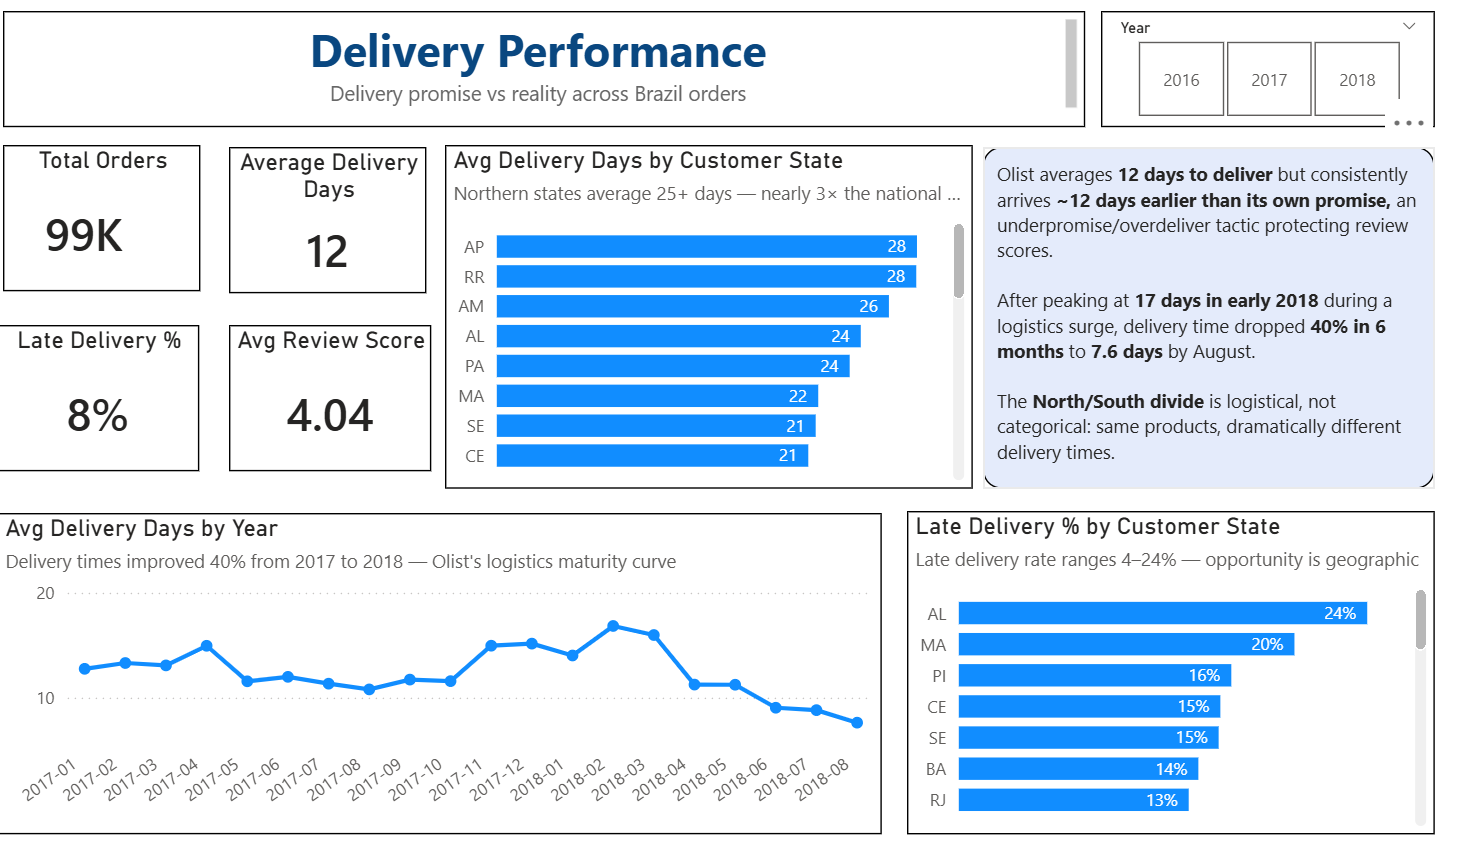

What the dashboard file says about the page in this screenshot:
{"tool":"powerbi","page":{"name":"Delivery Performance","canvas":[1280,720],"ordinal":2},"visuals":[{"type":"cardVisual","fields":{"Data":["orders_enriched.Avg Delivery Days"]},"box":[842.1,402.6,162,144.4],"z":0},{"type":"cardVisual","title":"Late Delivery %","fields":{"Data":["orders_enriched.Late Delivery %"]},"box":[6.4,242.2,144.4,104.3],"z":1000},{"type":"cardVisual","title":"Total Orders","fields":{"Data":["orders_enriched.Total Orders"]},"box":[9.6,113.9,141.2,104.3],"z":2000},{"type":"clusteredBarChart","title":"Avg Delivery Days by Customer State","fields":{"Y":["orders_enriched.Avg Delivery Days"],"Category":["orders_enriched.customer_state"]},"box":[325.6,113.9,376.9,245.4],"z":3000},{"type":"clusteredBarChart","title":"Late Delivery % by Customer State","fields":{"Y":["orders_enriched.Late Delivery %"],"Category":["orders_enriched.customer_state"]},"box":[656,375.3,376.9,231],"z":4000},{"type":"slicer","fields":{"Values":["DateTable.Year"]},"box":[794.3,18.6,238.6,82.9],"z":5000},{"type":"textbox","box":[10,18.6,772.9,82.9],"z":6000},{"type":"lineChart","title":"Avg Delivery Days by Year","fields":{"Y":["orders_enriched.Avg Delivery Days"],"Category":["DateTable.Year-Month"]},"box":[6.4,376.9,632,229.4],"z":7000},{"type":"textbox","box":[1042,114,238,233],"z":8000},{"type":"textbox","box":[710.6,115.5,322.4,243.8],"z":9000},{"type":"cardVisual","title":"Average Delivery Days","fields":{"Data":["orders_enriched.Avg Delivery Days"]},"box":[171.6,115.5,141.2,104.3],"z":10000},{"type":"cardVisual","title":"Avg Review Score","fields":{"Data":["orders_enriched.Avg Review Score"]},"box":[171.6,242.2,144.4,104.3],"z":11000}]}

Visuals, with their boxes on the page's 1280x720 design canvas (x1, y1, x2, y2). These are canvas units, not pixel positions in the 1469x864 screenshot, which may show the page scaled, cropped or inside an application window:
cardVisual - orders_enriched.Avg Delivery Days: l=842, t=403, r=1004, b=547
"Late Delivery %" cardVisual: l=6, t=242, r=151, b=346
"Total Orders" cardVisual: l=10, t=114, r=151, b=218
"Avg Delivery Days by Customer State" clusteredBarChart: l=326, t=114, r=702, b=359
"Late Delivery % by Customer State" clusteredBarChart: l=656, t=375, r=1033, b=606
slicer - DateTable.Year: l=794, t=19, r=1033, b=102
textbox: l=10, t=19, r=783, b=102
"Avg Delivery Days by Year" lineChart: l=6, t=377, r=638, b=606
textbox: l=1042, t=114, r=1280, b=347
textbox: l=711, t=116, r=1033, b=359
"Average Delivery Days" cardVisual: l=172, t=116, r=313, b=220
"Avg Review Score" cardVisual: l=172, t=242, r=316, b=346
